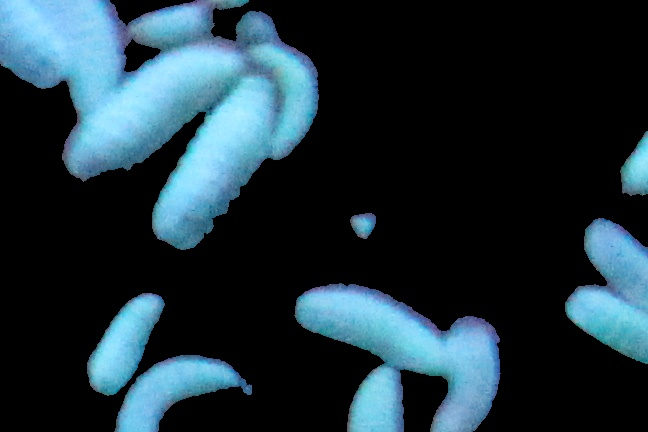larvae: (70, 41, 241, 180), (153, 75, 278, 249), (295, 288, 448, 377), (106, 358, 246, 432), (430, 319, 500, 432), (251, 45, 320, 158), (90, 292, 161, 394), (562, 283, 648, 365), (579, 218, 648, 307), (1, 1, 70, 88), (339, 367, 416, 432)
